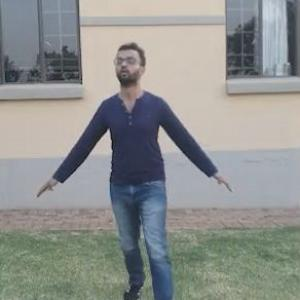land: (56, 34, 248, 287)
